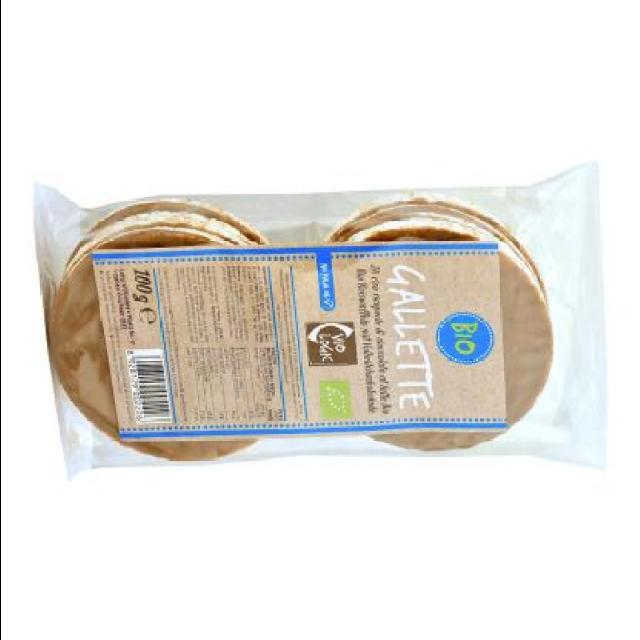Gallette di riso: (30, 153, 616, 493)
